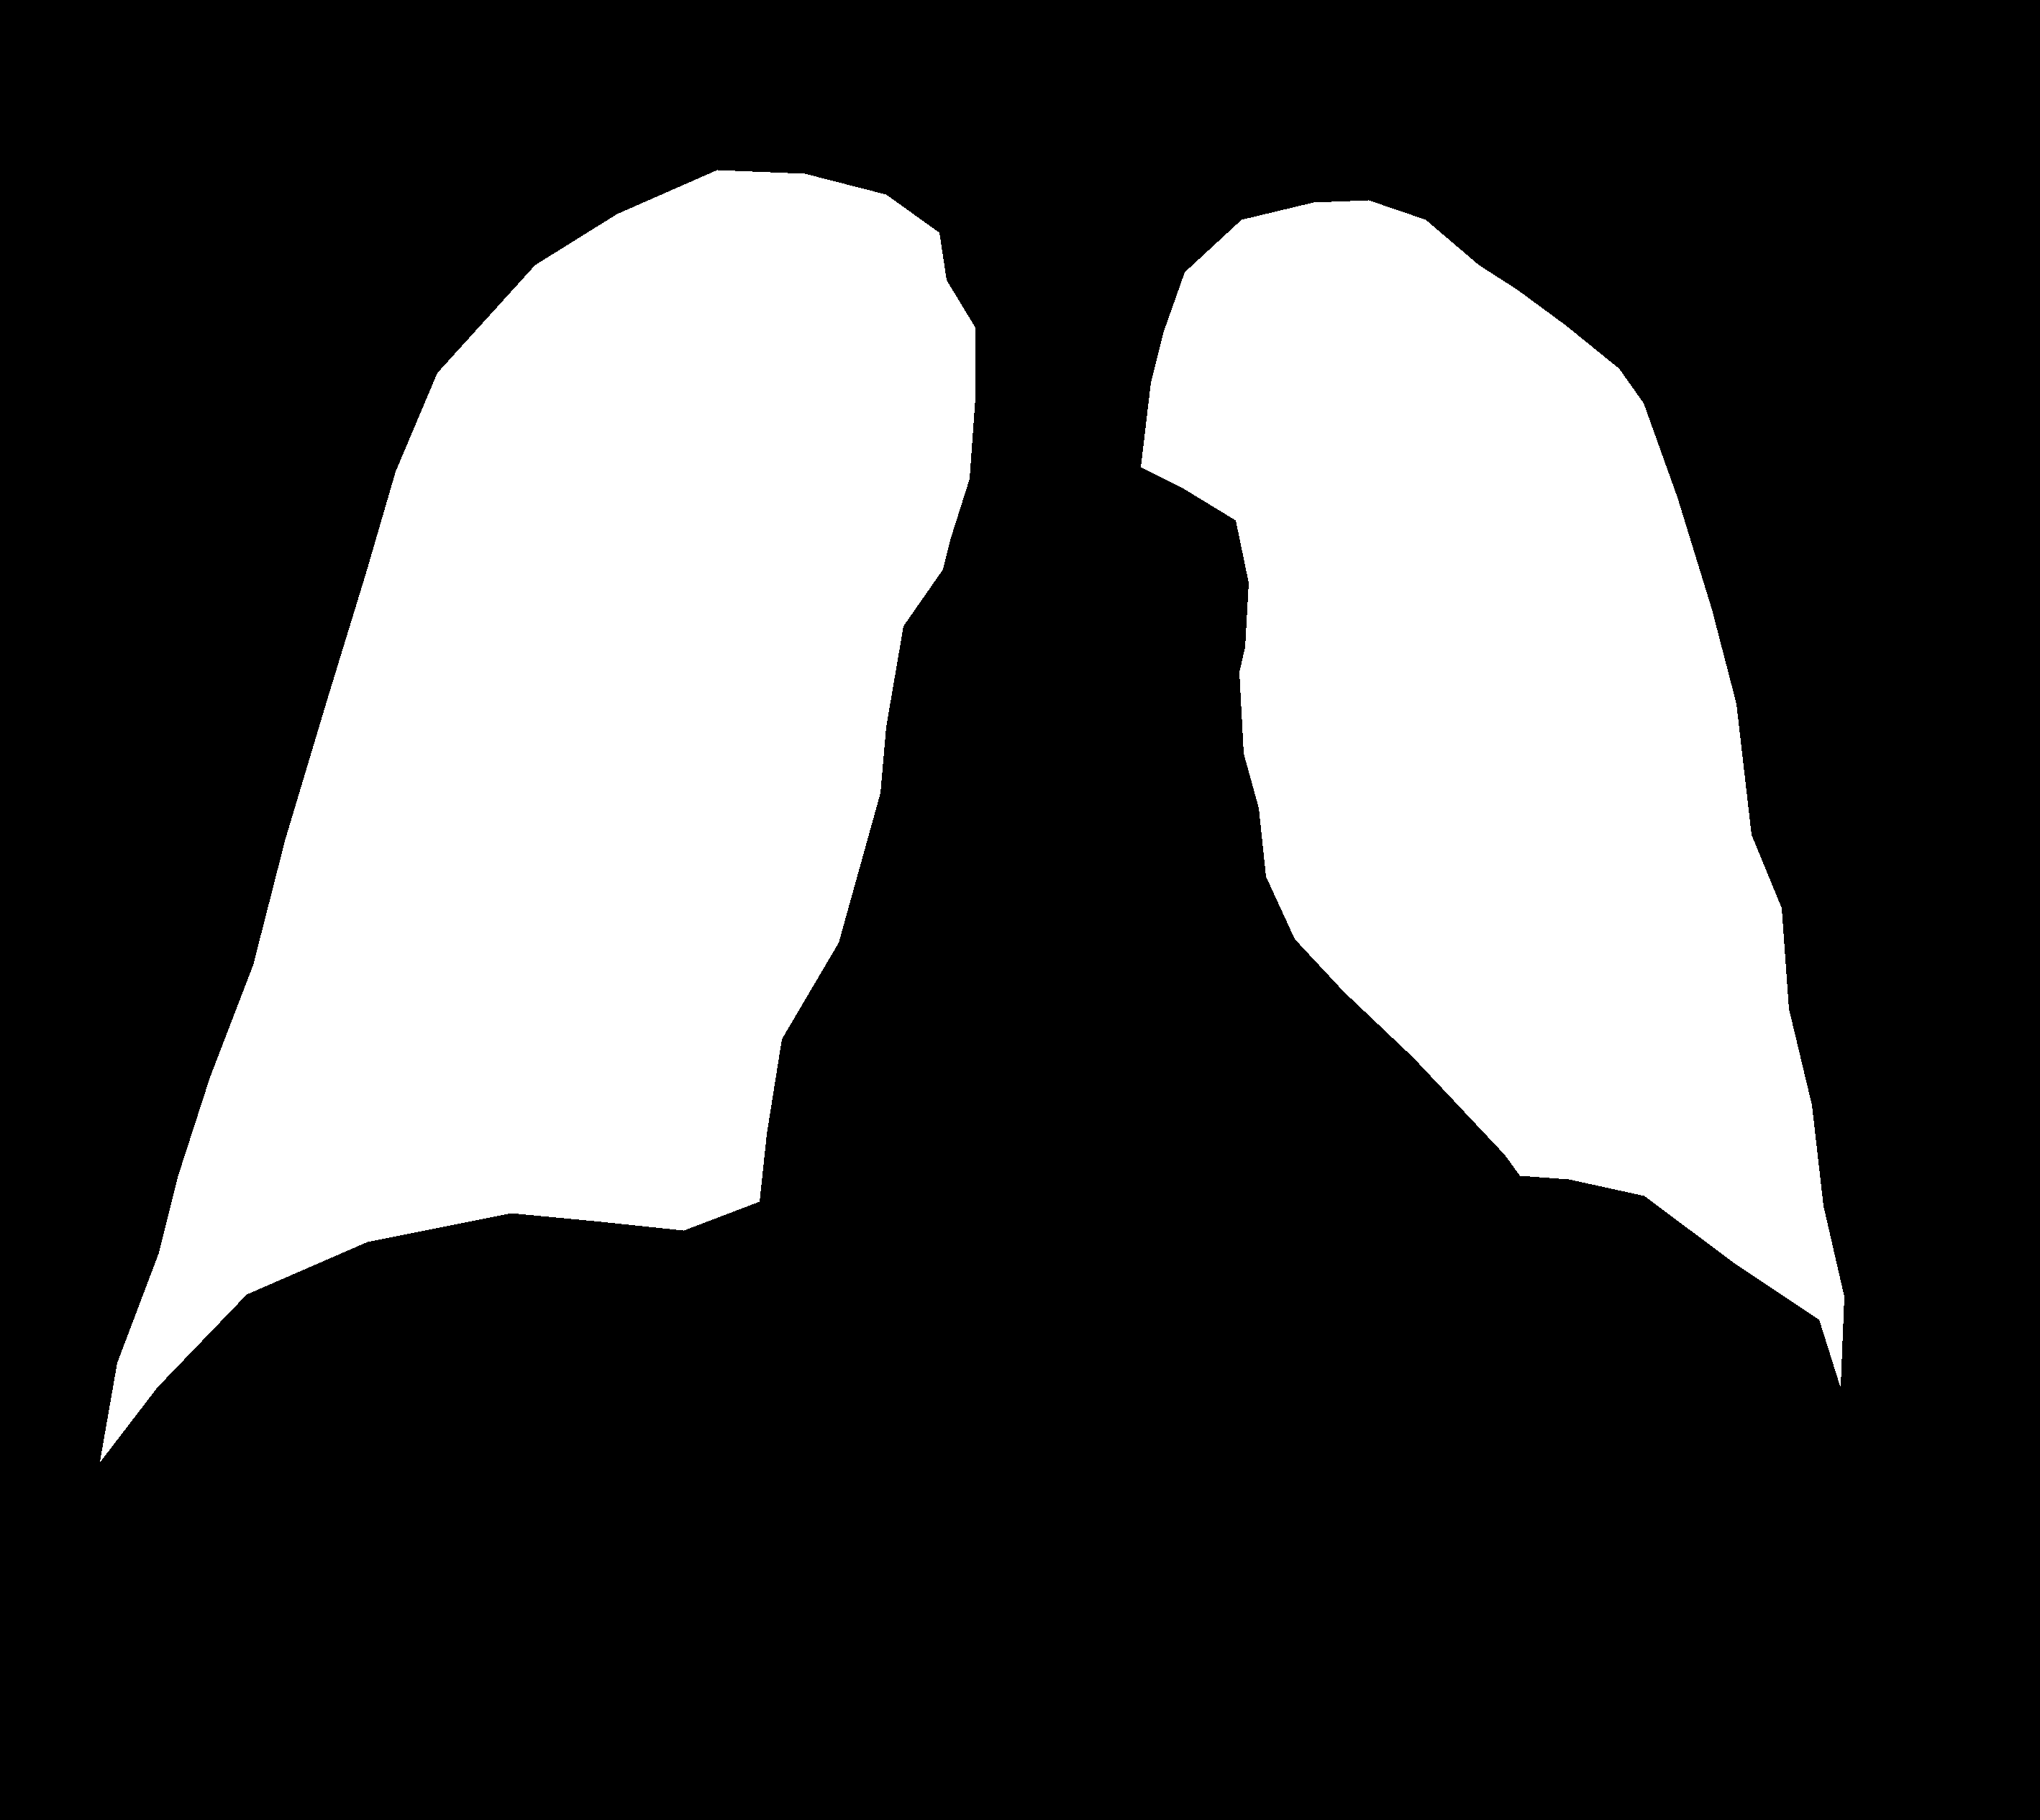heart: (763, 696, 1516, 1365)
left_lung: (100, 170, 975, 1462)
right_lung: (1140, 200, 1843, 1386)
